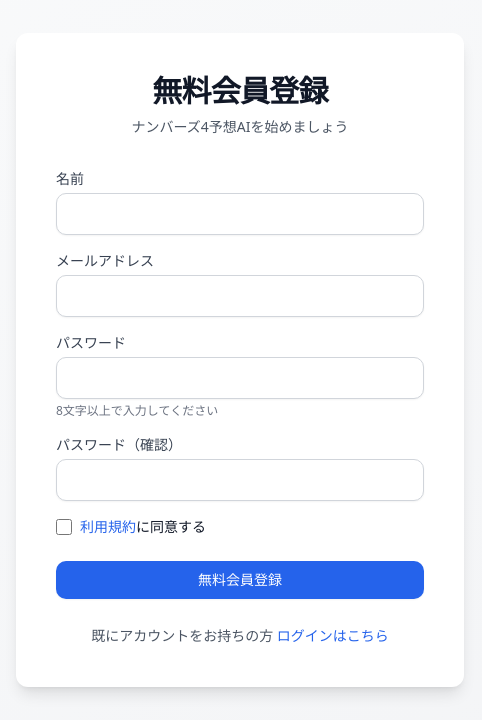
Test: RegisterPage › 利用規約に同意していない場合エラーが表示される
The image size is (482, 720).
Type "test@example.com" into the field labelled "メールアドレス".
click(240, 296); type("test@example.com")  # box [56,275,424,317]
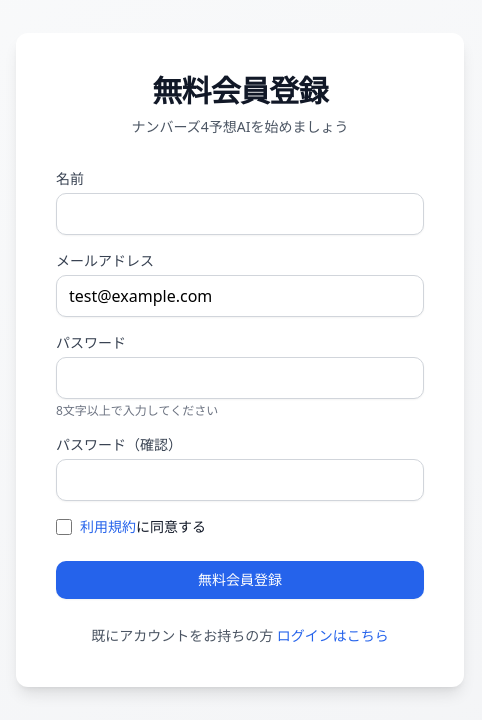
Type "password123" into the password field labelled "パスワード".
click(240, 378); type("password123")  # box [56,357,424,399]
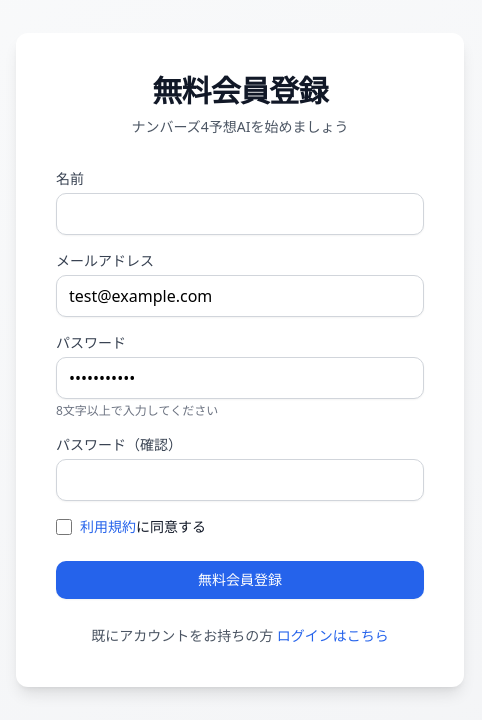
Type "password123" into the password field labelled "パスワード（確認）".
click(240, 480); type("password123")  # box [56,459,424,501]
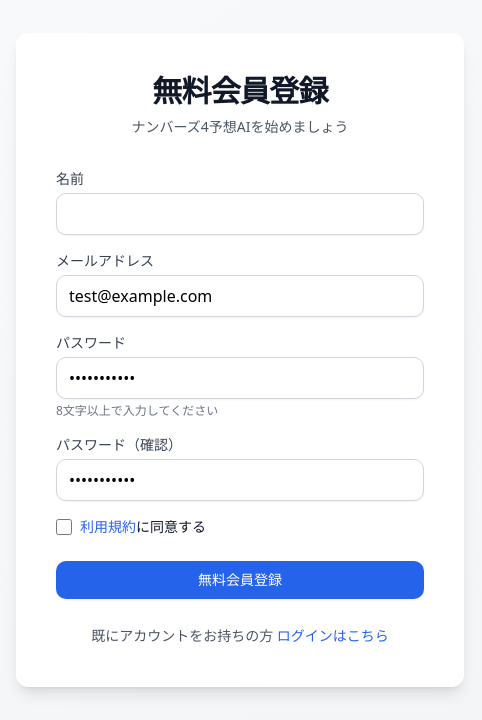
Click the button "無料会員登録".
click(240, 580)  # box [56,561,424,599]
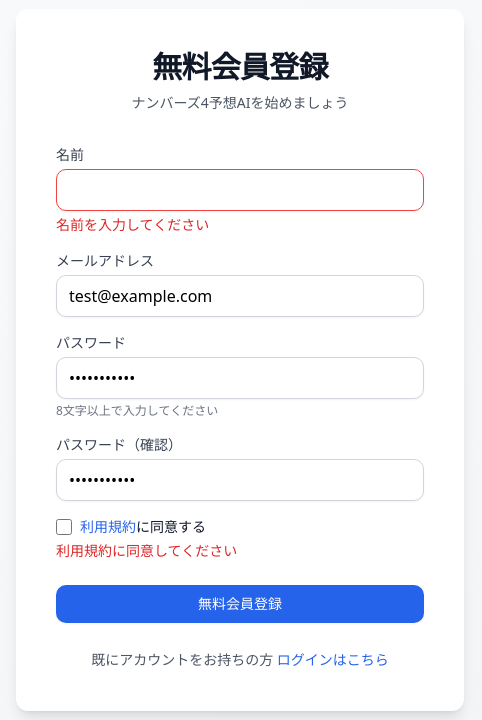
expect the text "利用規約に同意してください" is shown: met, box [56,541,237,560]
